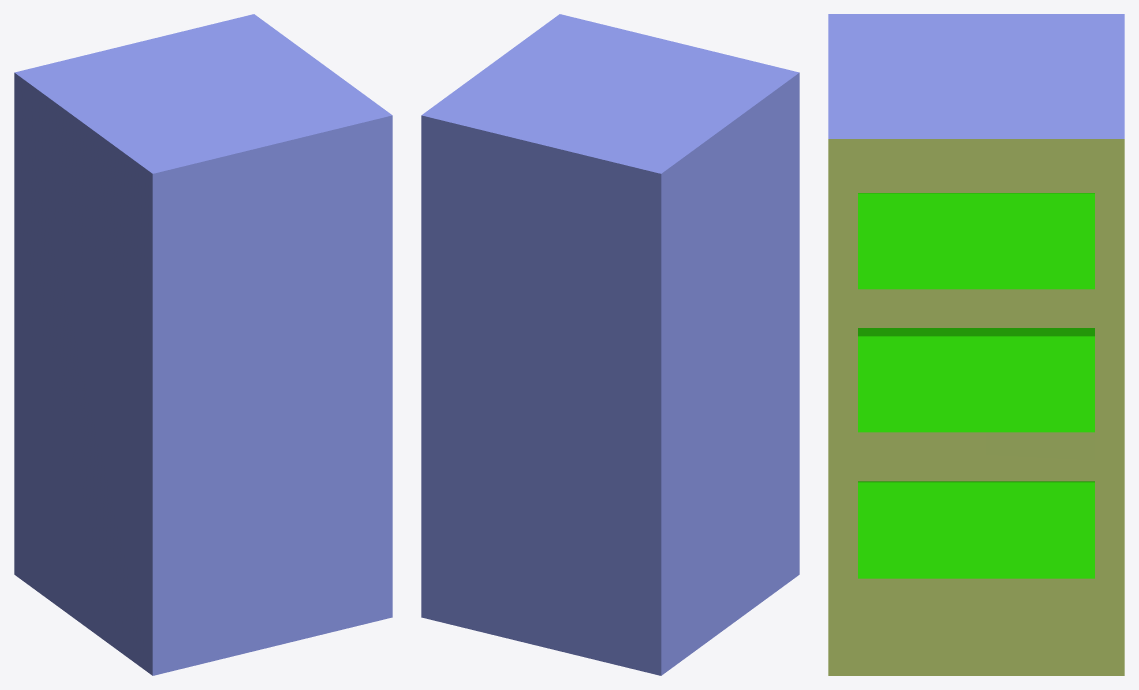
Rendered from Cabinet_Try.fbx.
3 views of the same model, side by side, from view 1: azimuth 30°, elevation 25°; view 2: azimuth 150°, elevation 25°; view 3: azimuth 270°, elevation 25° (orthographic). The views are drawn at different scales.
Visible parts, largest first — view 1: Cabinet; view 2: Cabinet; view 3: Cabinet.
Boxes of the visible parts, x1,y1,x2,y2 form: Cabinet: [14, 14, 392, 675]; Cabinet: [421, 14, 799, 675]; Cabinet: [828, 14, 1124, 675].
Bounding box in the file's own units: 100 × 200 × 100.
